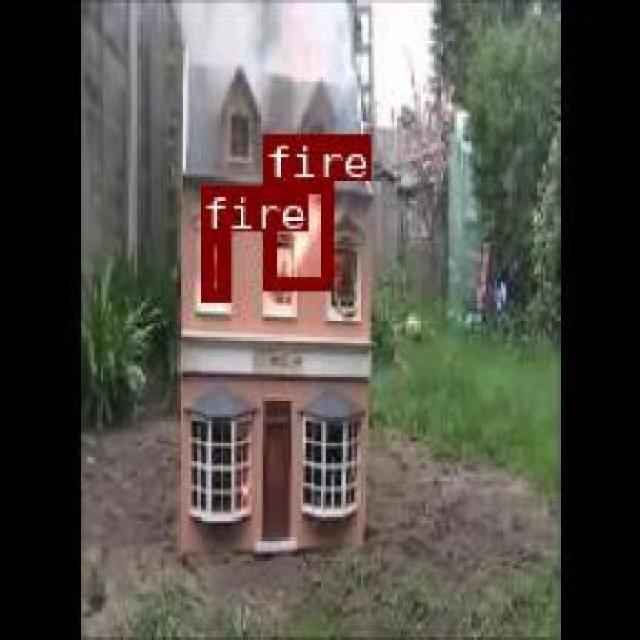Fire: (263, 180, 329, 286), (198, 231, 227, 300)
